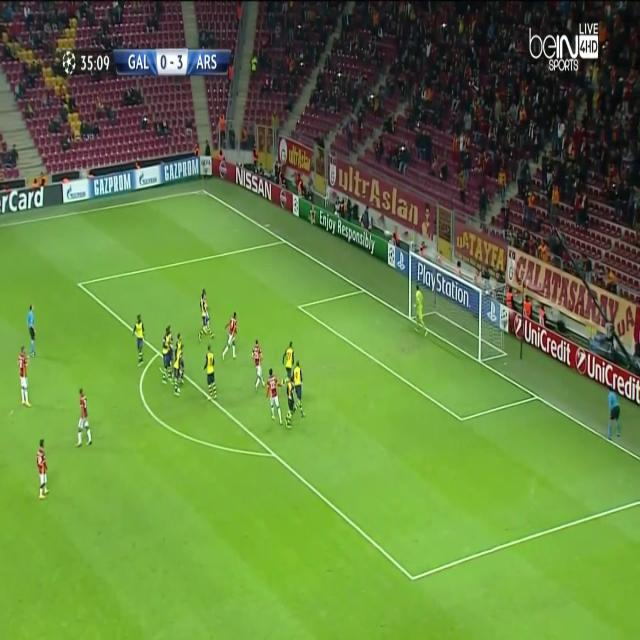Goalkeeper: (412, 282, 428, 340)
Player: (76, 386, 95, 450), (195, 284, 215, 344), (290, 360, 308, 422), (34, 436, 50, 504), (220, 310, 240, 364), (265, 368, 283, 428), (16, 345, 31, 409), (202, 346, 218, 405), (159, 326, 174, 388), (250, 337, 266, 394), (174, 334, 187, 399), (131, 314, 146, 370), (284, 376, 296, 432), (282, 337, 295, 376)
Referee: (605, 385, 622, 442), (28, 300, 38, 360)
